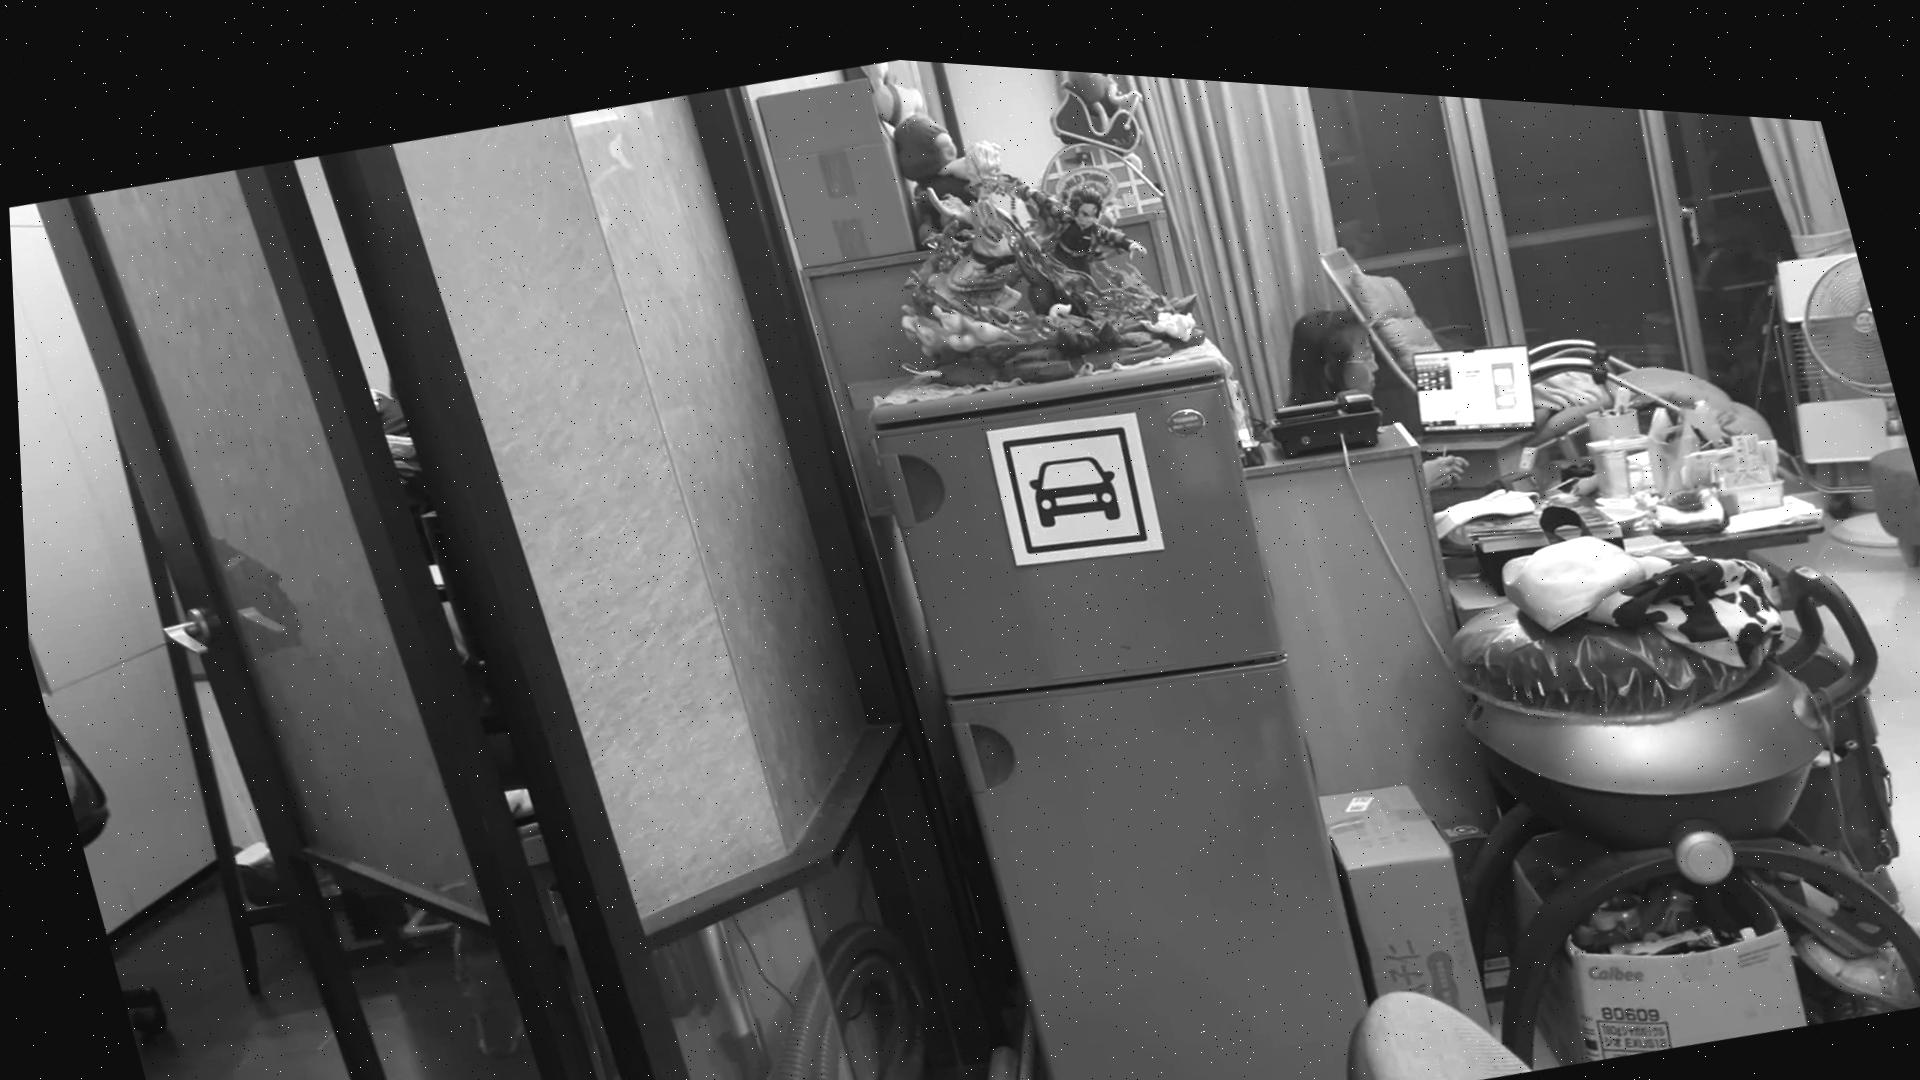car_img: (990, 394, 1153, 556)
